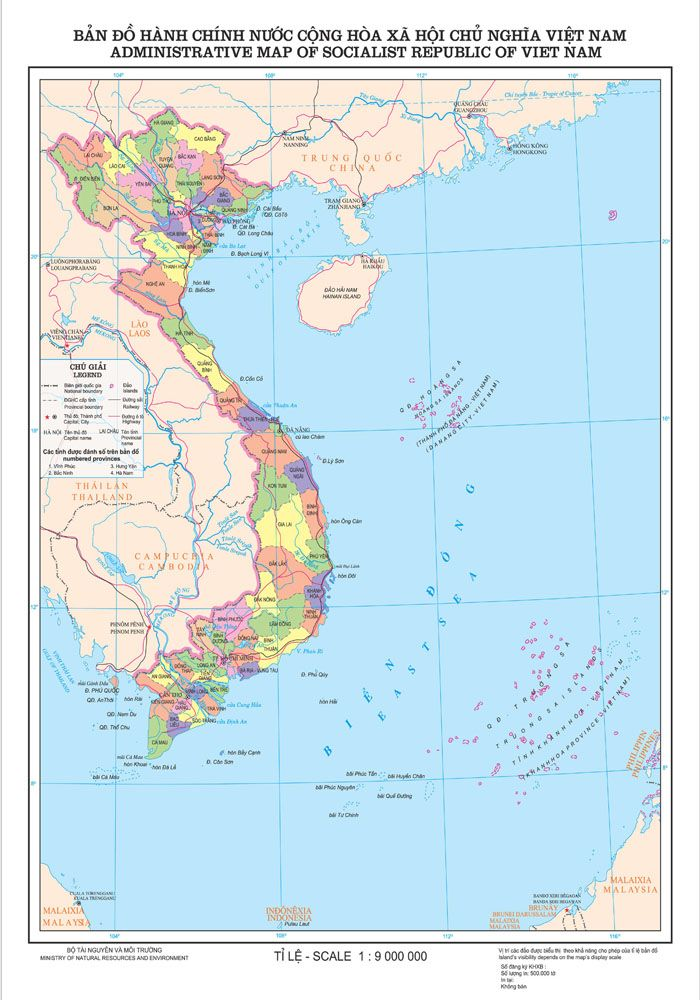Island: (424, 615, 633, 813), (398, 354, 503, 446)
